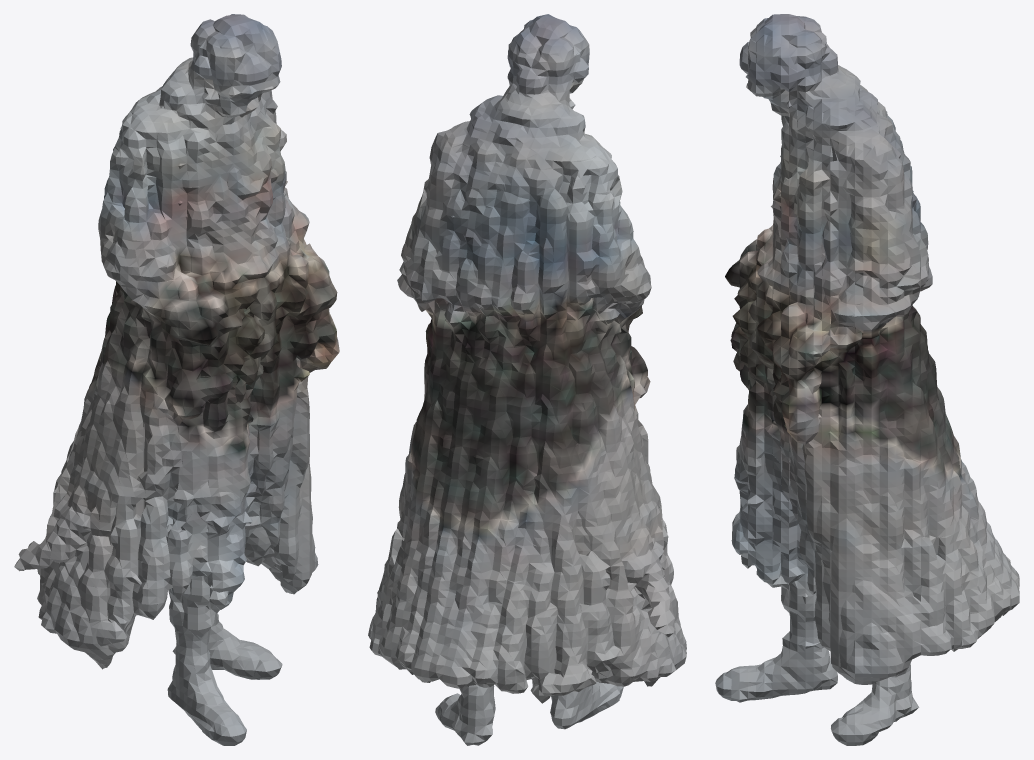
File: maru-triposr-v1.glb
The picture shows the model from 3 angles, left to right: view 1: azimuth 30°, elevation 25°; view 2: azimuth 150°, elevation 25°; view 3: azimuth 270°, elevation 25°; orthographic projection.
Visible parts, largest first — view 1: world; view 2: world; view 3: world.
Part boxes in pixels (left/top/right/bottom): world: left=14, top=14, right=339, bottom=745; world: left=368, top=14, right=686, bottom=745; world: left=715, top=14, right=1019, bottom=745.
Bounding box in the file's own units: 0.7799 × 1.78 × 0.7073.
